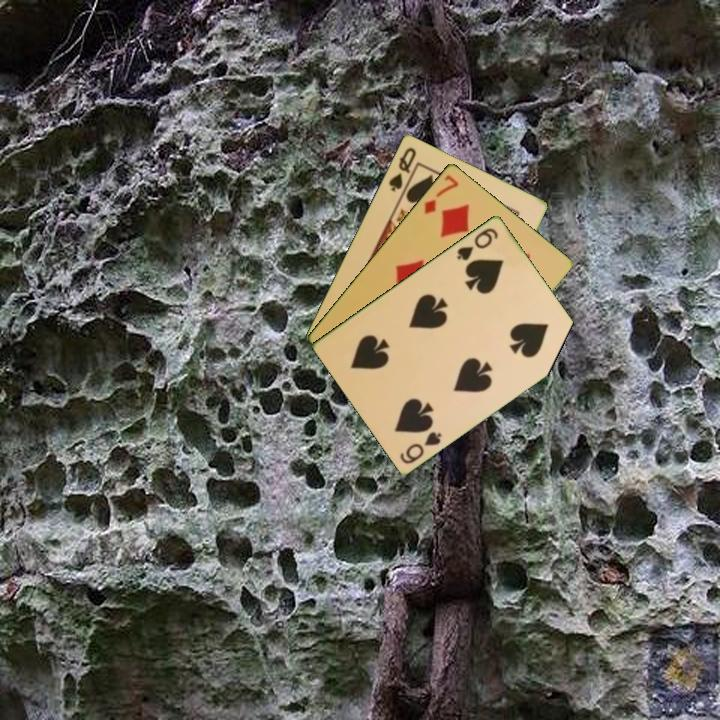6s: (396, 427, 445, 467), (453, 224, 501, 263)
7d: (420, 171, 461, 216)
Qs: (385, 143, 419, 194)
